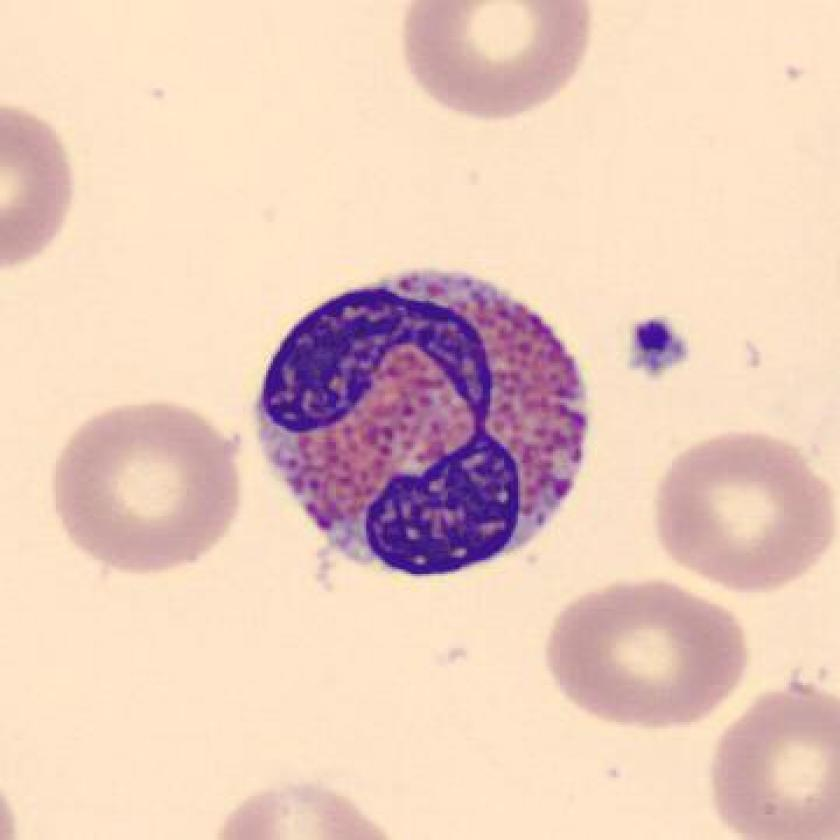eosinophil: (244, 253, 608, 589)
